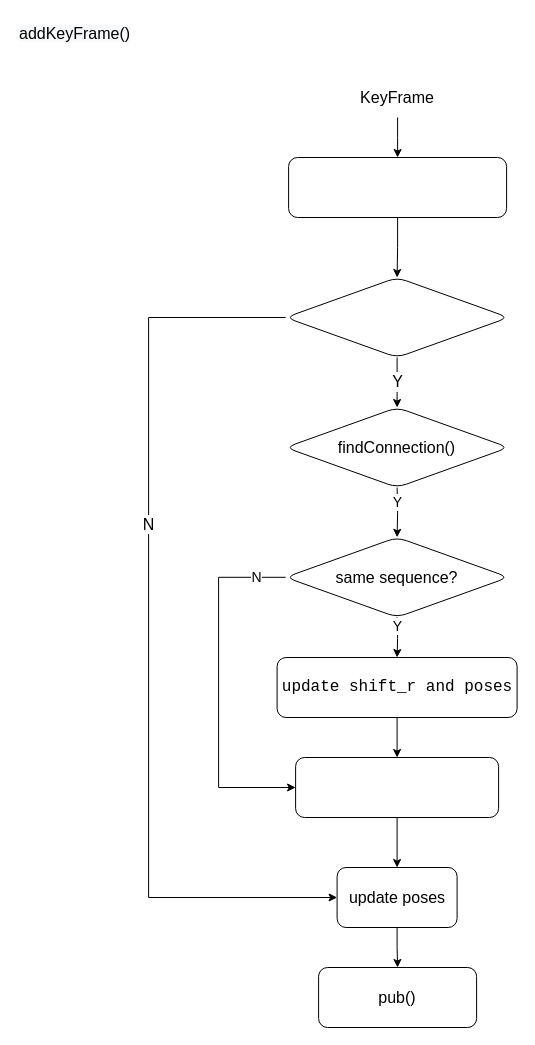
Some shapes in this 535 by 1045 pixel diagram are drawn without their labels. The centre of each missing label's shape, as x and y in pixels:
add loop to optimization: the point at 397,787
convert vio pose to map: the point at 397,187
detectLoop(): the point at 397,317
